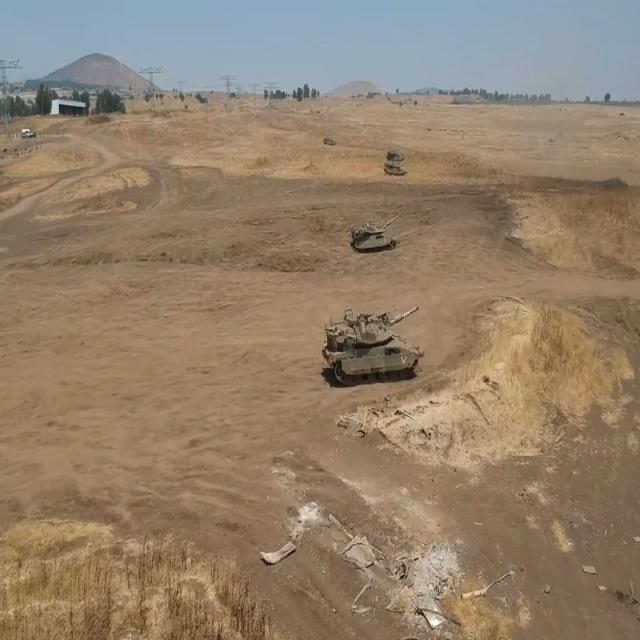tank: (325, 294, 425, 382), (343, 212, 408, 256), (382, 158, 407, 181), (383, 139, 401, 158), (324, 133, 336, 150)
